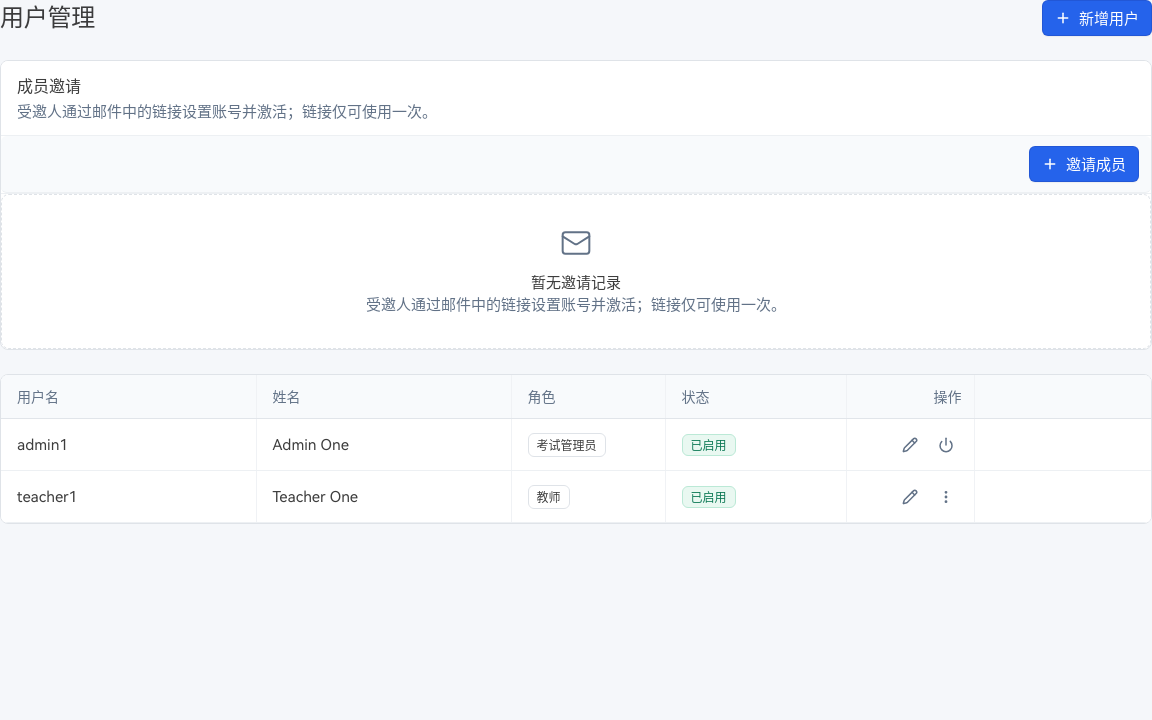
Test: UsersPage › Teacher course-assignment affordance (issue 548) › full lifecycle: open → GET assignments + course catalog → POST assign → refresh → revoke → refresh → removal
Click the button named "更多操作" at x=946, y=496, box [930,480,962,512]
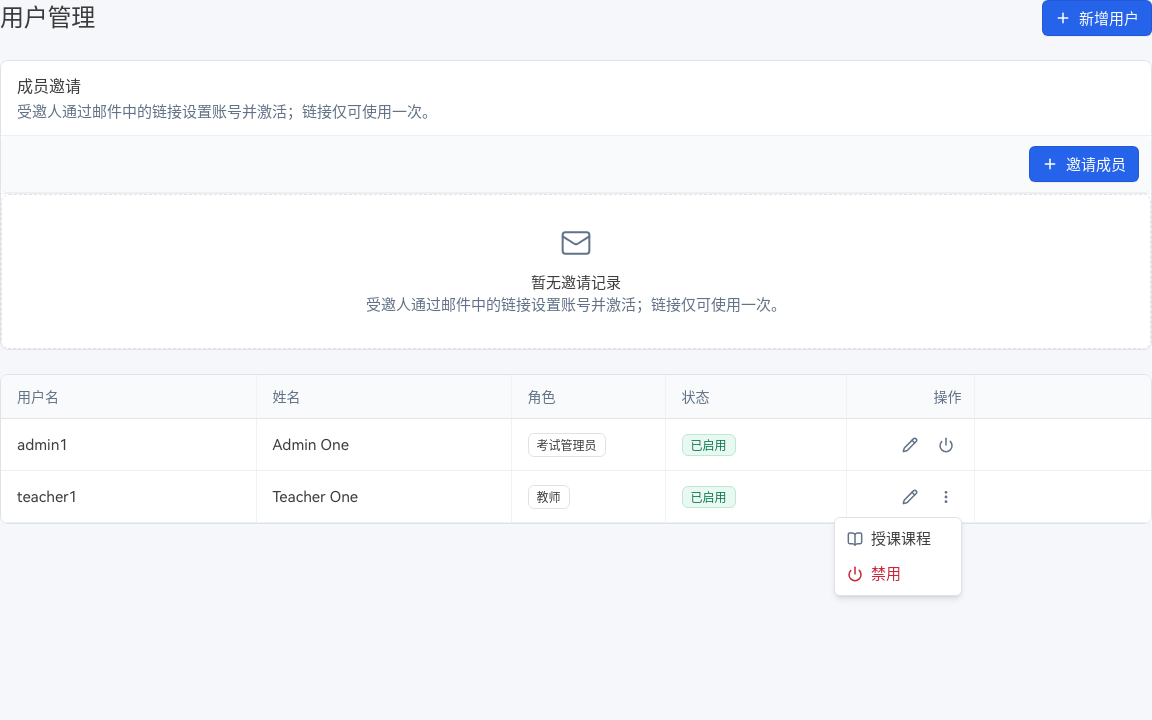
Click the menu item "授课课程" at x=889, y=539, box [847,530,931,548]
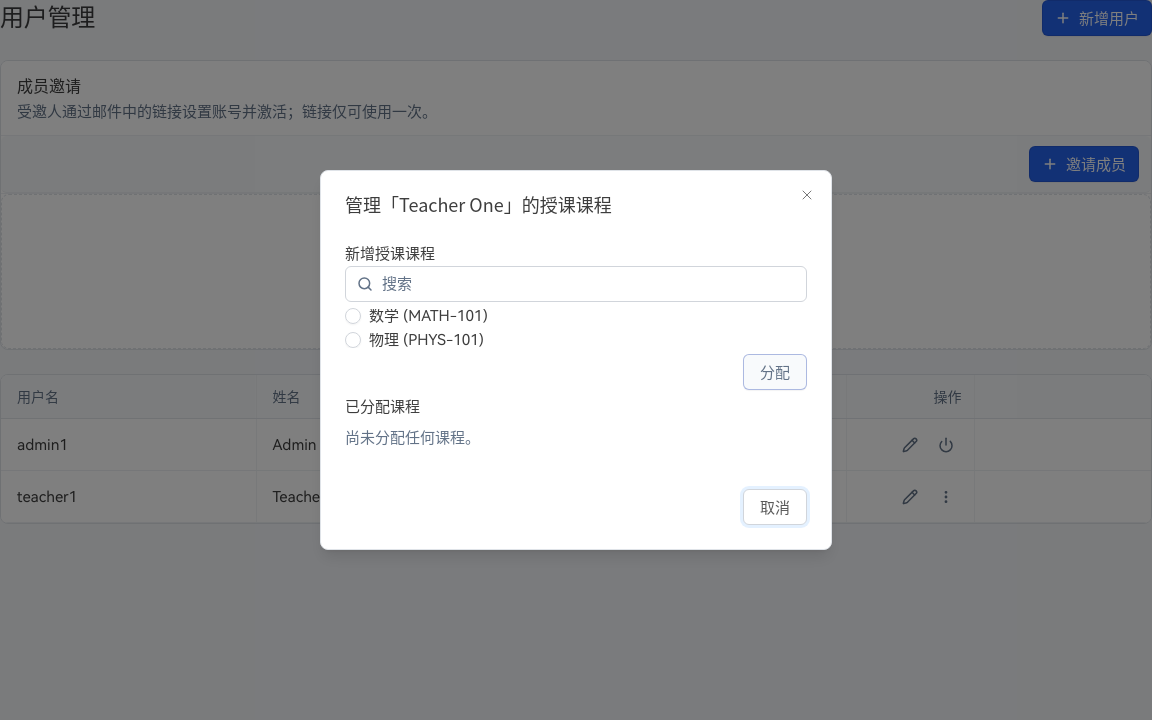
Now the heading "管理「Teacher One」的授课课程" is shown, box [345,191,612,217]
Now the text "尚未分配任何课程。" is shown, box [345,429,480,447]
Click the radio button named "数学 (MATH-101)" next to "数学" at x=353, y=316, box [345,308,361,324]
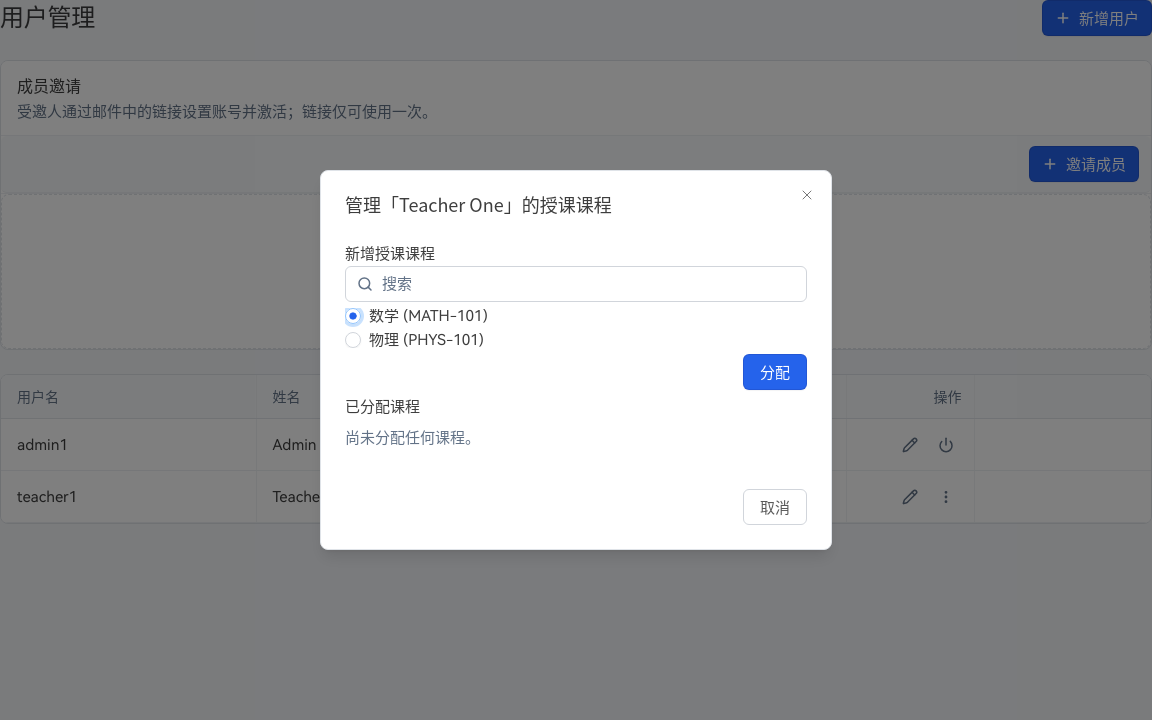
Click the button "分配" at x=775, y=372, box [743,354,807,390]
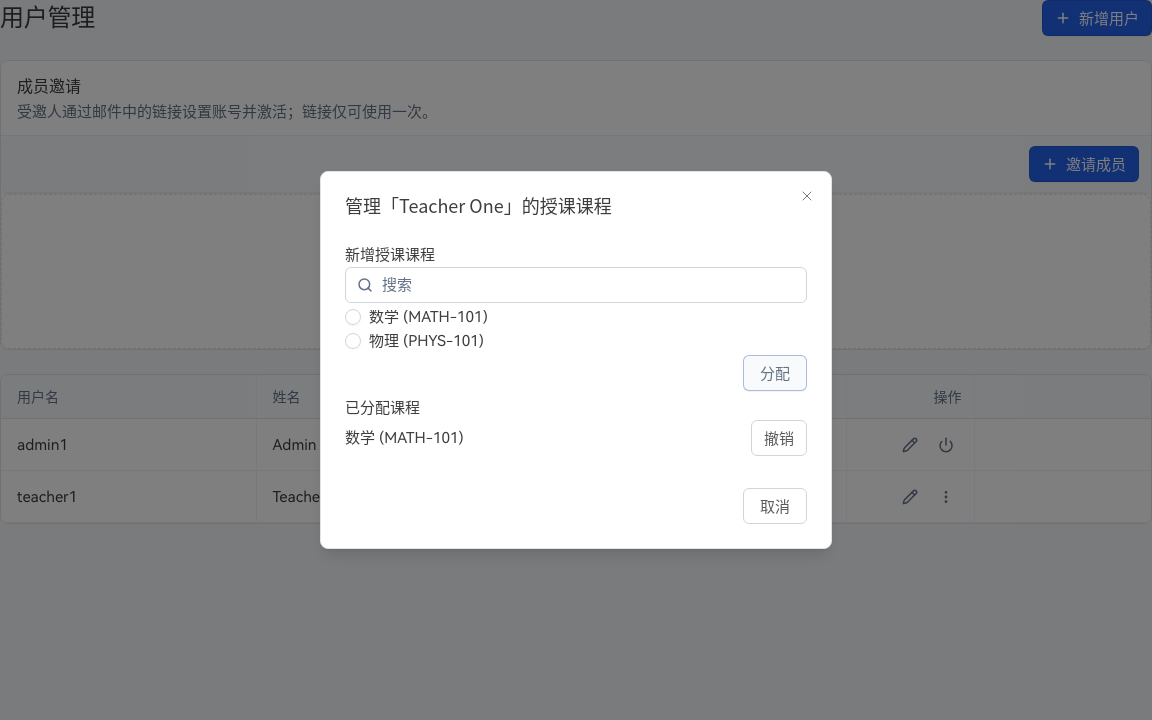
Click the button "撤销" at x=779, y=438, box [751,420,807,456]
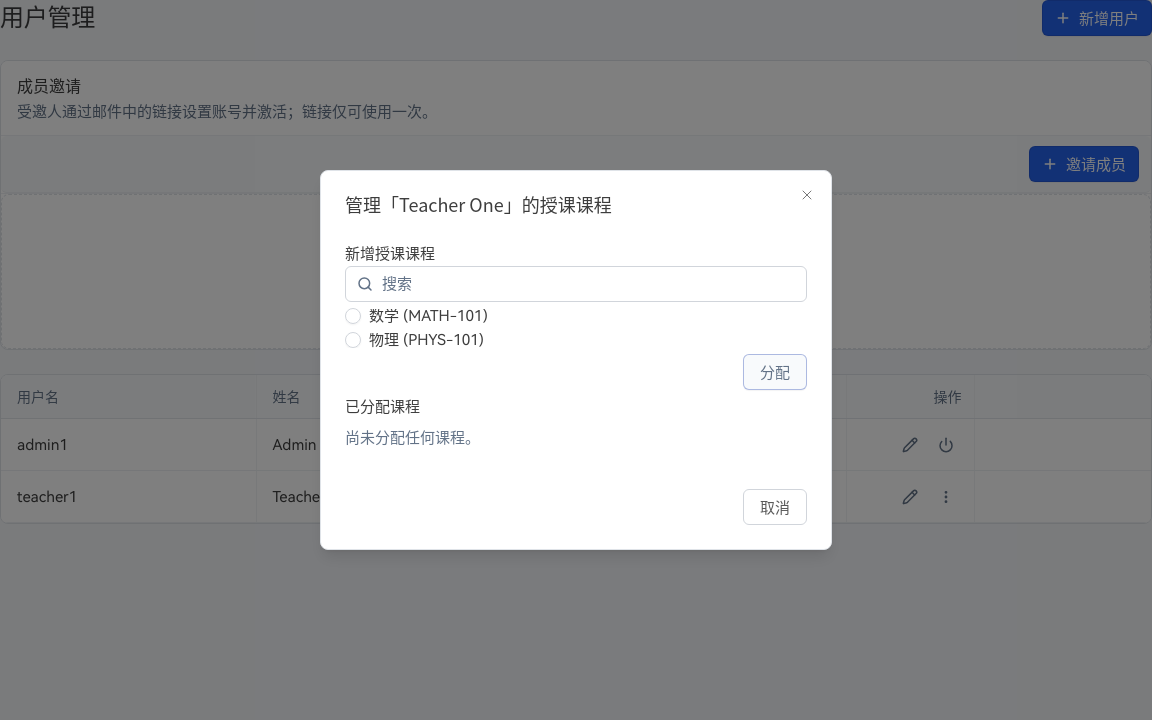
Now the button "撤销" is gone
Now the text "尚未分配任何课程。" is shown, box [345,429,480,447]
